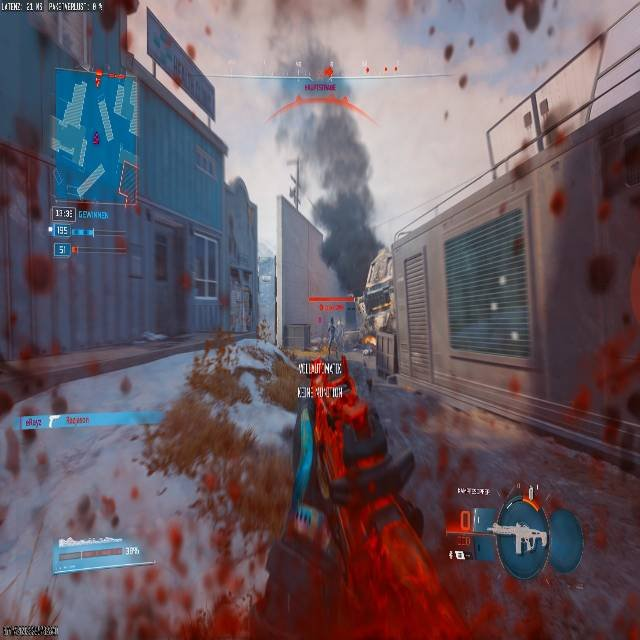player: (326, 316, 343, 349)
